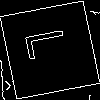L: (24, 25, 76, 61)
